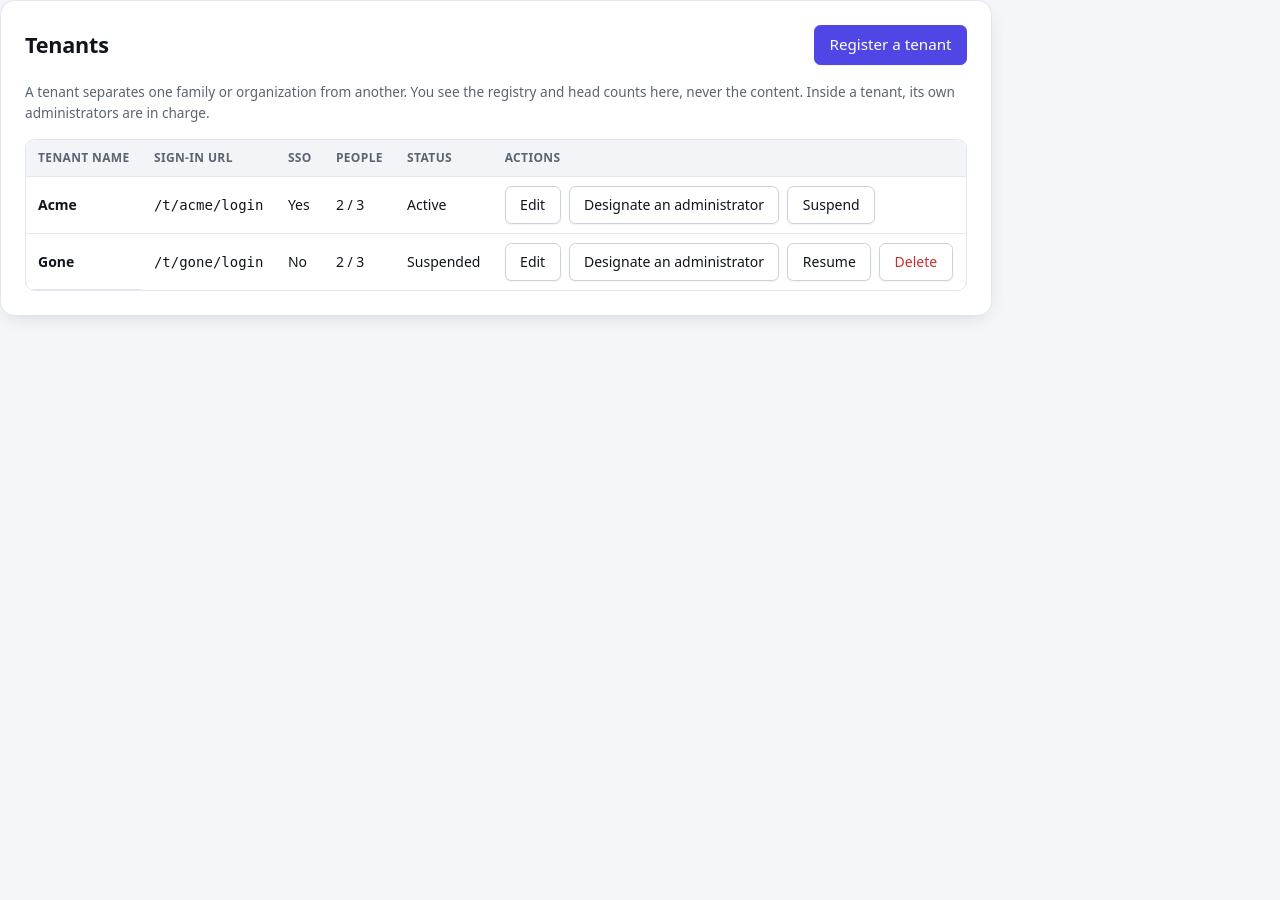
Scenario: TenantsPage › 管理者を指名し直すと、そのテナントへ招待する
Expected: the column heading "Acme" is shown, [26, 177, 142, 234]
Click the button "Designate an administrator" in the row of "/t/acme/login" at (674, 205), box [568, 186, 779, 224]
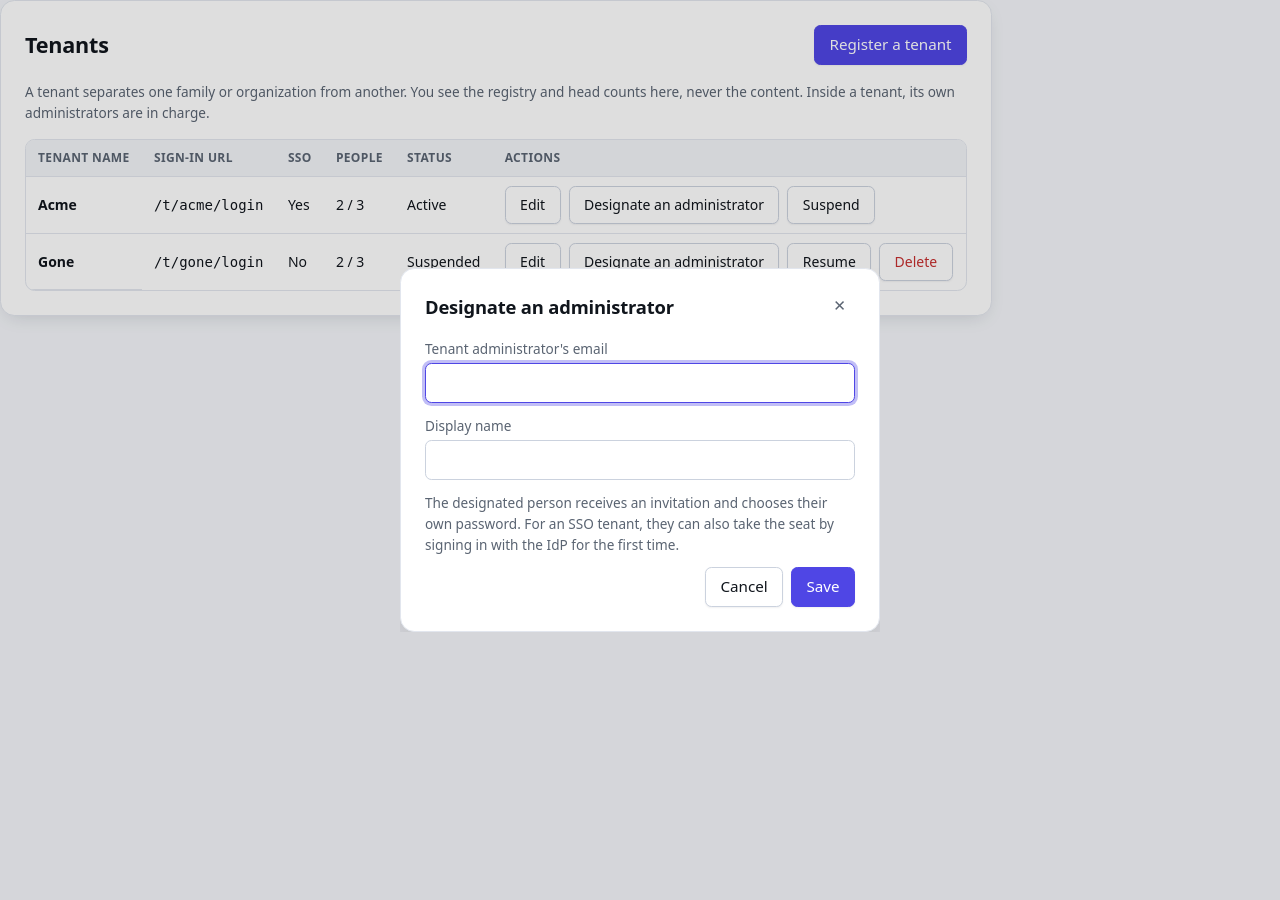
Type "deputy@acme.example" into the field labelled "Tenant administrator's email" at (640, 383), box [425, 363, 855, 403]
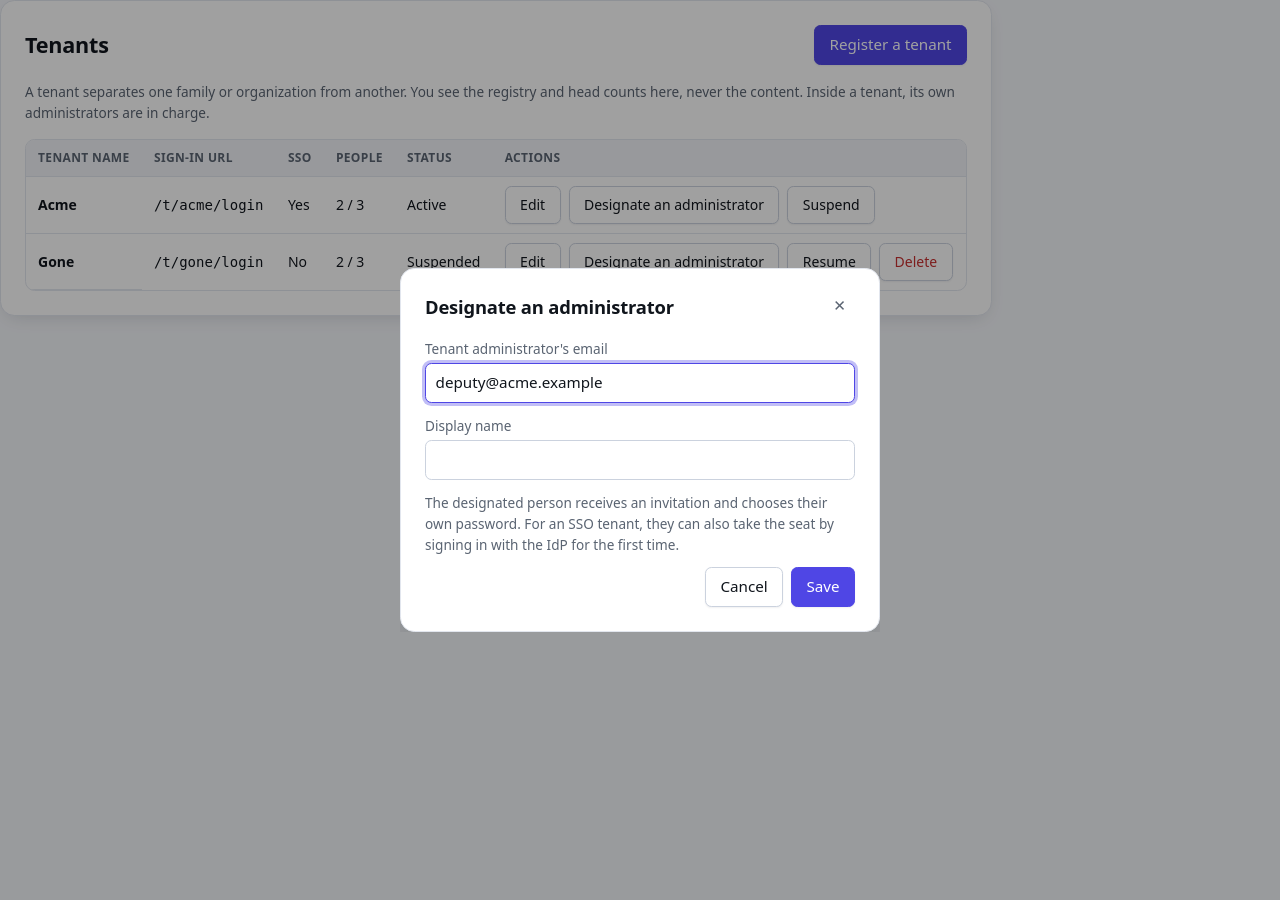
Type "deputy" into the field labelled "Display name" at (640, 460), box [425, 440, 855, 480]
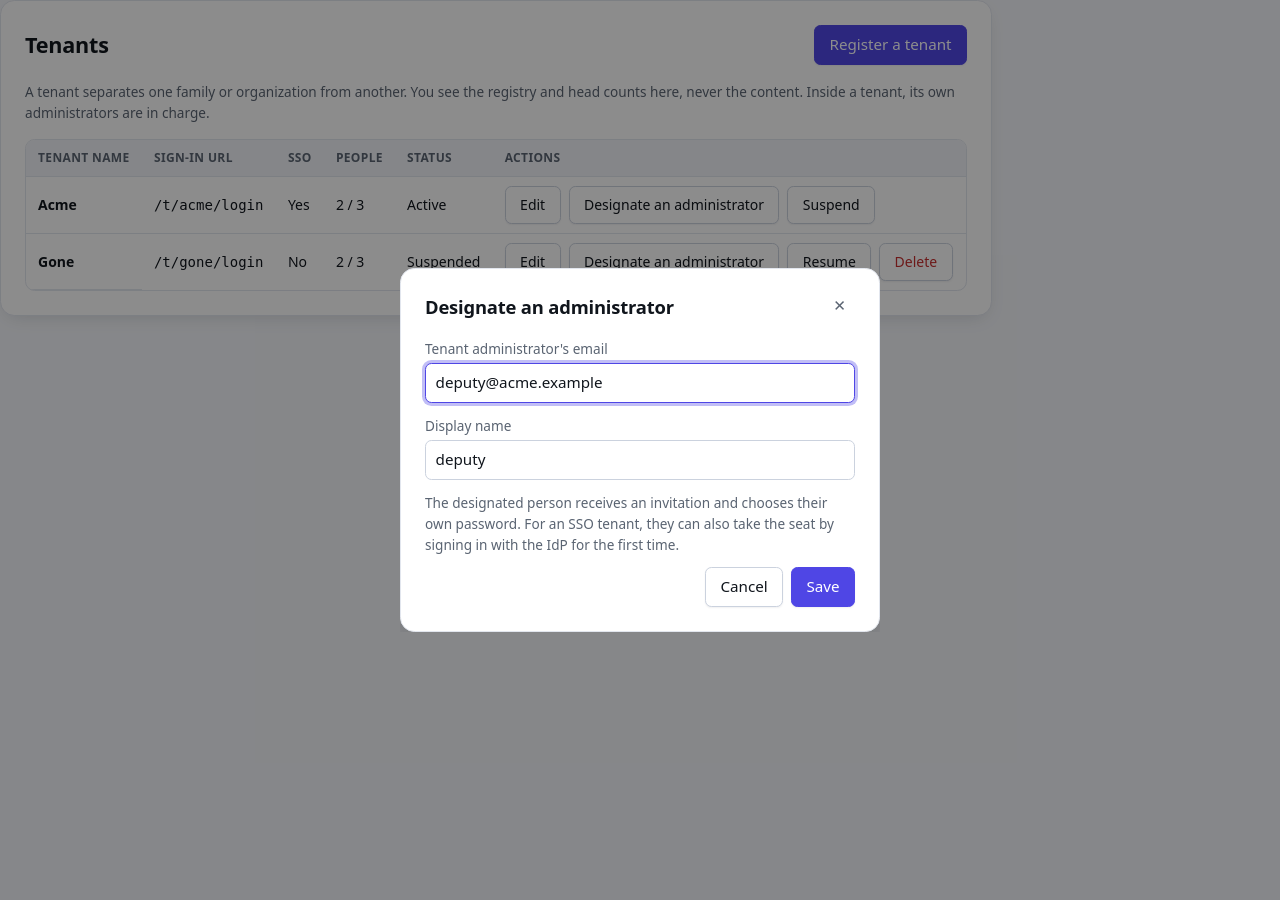
Click the button "Save" at (823, 587), box [791, 567, 855, 607]
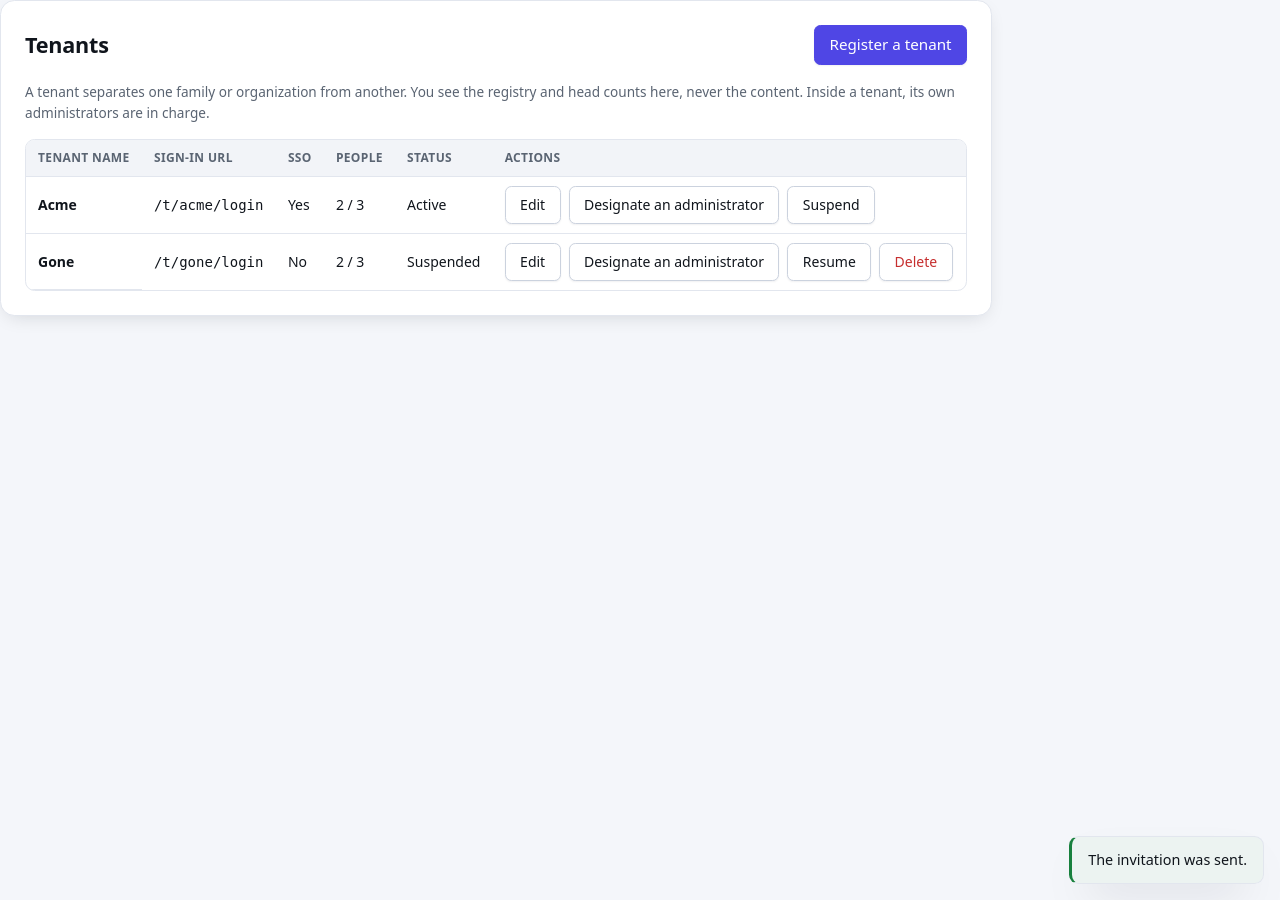
Now the text "The invitation was sent." is shown, box [1069, 836, 1264, 884]
